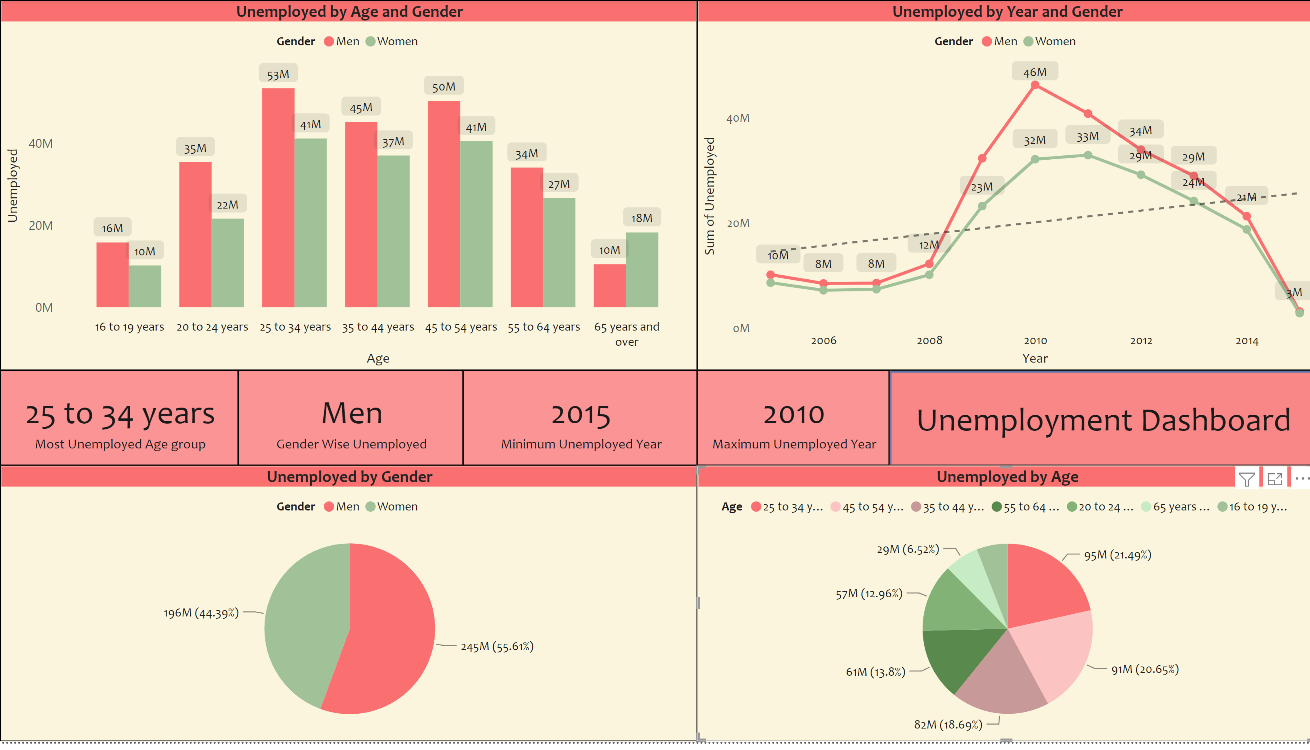

This screenshot's page, from the dashboard's own definition file:
{"tool":"powerbi","page":{"name":"Page 1","canvas":[1280,720],"ordinal":0},"visuals":[{"type":"clusteredColumnChart","fields":{"Category":["Data.Age"],"Y":["Sum(Data.Unemployed)"],"Series":["Data.Gender"]},"box":[0,0,677.9,359.9],"z":0},{"type":"pieChart","title":"Unemployed by Gender","fields":{"Category":["Data.Gender"],"Y":["Sum(Data.Unemployed)"]},"box":[0,451.3,677.9,268.4],"z":1000},{"type":"pieChart","title":"Unemployed by Age","fields":{"Category":["Data.Age"],"Y":["Sum(Data.Unemployed)"]},"box":[677.9,451.3,602.1,268.4],"z":2000},{"type":"lineChart","title":"Unemployed by Year and Gender","fields":{"Y":["Sum(Data.Unemployed)"],"Category":["Data.Year"],"Series":["Data.Gender"]},"box":[677.9,0,602.1,359.9],"z":3000},{"type":"card","fields":{"Values":["Min(Data.Age)"]},"box":[0,359.9,231.5,91.4],"z":4000},{"type":"card","fields":{"Values":["Min(Data.Gender)"]},"box":[231.5,359.9,218.8,91.4],"z":5000},{"type":"card","fields":{"Values":["Max(Data.Year)"]},"box":[450.3,359.9,227.6,91.4],"z":6000},{"type":"card","fields":{"Values":["Min(Data.Year)"]},"box":[677.9,359.9,186.7,91.4],"z":7000},{"type":"shape","title":"Un Emploment Dashboard","box":[864.7,359.9,415.3,91.4],"z":8000}]}

Visuals, with their boxes in screenshot pixels (x1, y1, x2, y2), scaled from the page's 1280x720 canvas onto the 1310x750 screenshot:
clusteredColumnChart - Data.Age x Sum(Data.Unemployed): <bbox>0, 0, 694, 375</bbox>
"Unemployed by Gender" pieChart: <bbox>0, 470, 694, 749</bbox>
"Unemployed by Age" pieChart: <bbox>694, 470, 1309, 749</bbox>
"Unemployed by Year and Gender" lineChart: <bbox>694, 0, 1309, 375</bbox>
card - Min(Data.Age): <bbox>0, 375, 237, 470</bbox>
card - Min(Data.Gender): <bbox>237, 375, 461, 470</bbox>
card - Max(Data.Year): <bbox>461, 375, 694, 470</bbox>
card - Min(Data.Year): <bbox>694, 375, 885, 470</bbox>
"Un Emploment Dashboard" shape: <bbox>885, 375, 1309, 470</bbox>
